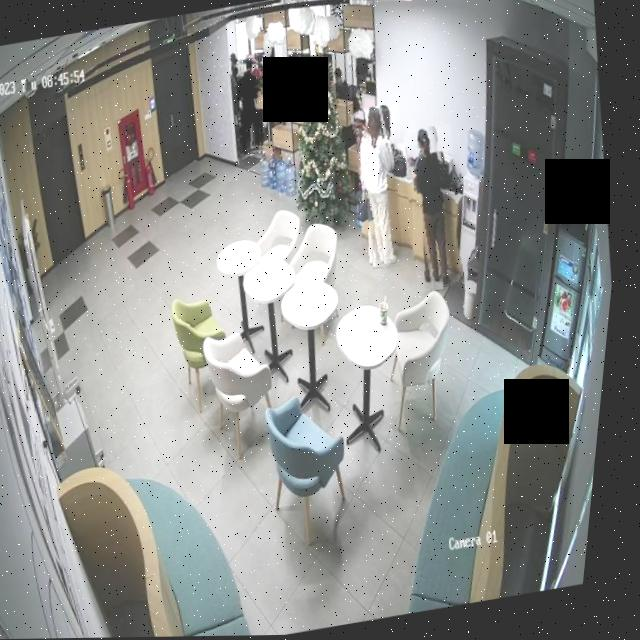person: (345, 103, 427, 272), (398, 125, 479, 295), (229, 57, 275, 157)
